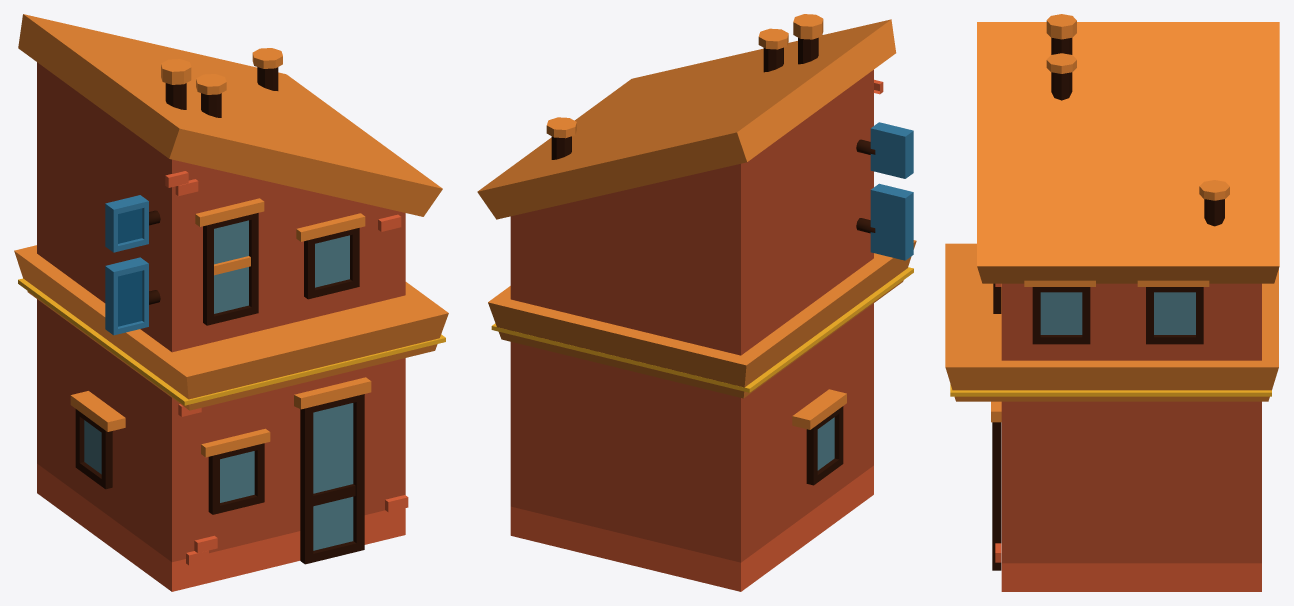
Rendered from Building B.fbx.
The picture shows the model from 3 angles, left to right: view 1: azimuth 30°, elevation 25°; view 2: azimuth 150°, elevation 25°; view 3: azimuth 270°, elevation 25°; orthographic projection. The views are drawn at different scales.
Visible parts, largest first — view 1: Building B, Overhang.005, Overhang.003, Door.001, Window.003, Window.007, Window.004, Window.008, Overhang.004, Cube.016, Cube.015, Pipe.005 (+2 smaller); view 2: Building B, Overhang.005, Overhang.003, Window.008, Cube.016, Overhang.004, Cube.015, Pipe.005, Pipe.006, Pipe.007; view 3: Overhang.005, Building B, Overhang.003, Window.005, Window.006, Overhang.004, Door.001, Pipe.006, Pipe.007, Pipe.005.
Part boxes in pixels (x1,y1,x2,y2): Building B: (37,62,405,591); Overhang.005: (18,14,442,216); Overhang.003: (14,245,448,410); Door.001: (294,377,371,564); Window.003: (195,198,264,325); Window.007: (201,428,270,514); Window.004: (296,213,365,299); Window.008: (70,391,125,489); Overhang.004: (18,278,445,405); Cube.016: (105,257,148,335); Cube.015: (105,195,148,252); Pipe.005: (161,59,191,109); Building B: (510,70,873,591); Overhang.005: (477,19,896,219); Overhang.003: (488,240,916,398); Window.008: (792,389,846,485); Cube.016: (870,183,913,260); Overhang.004: (491,267,913,392); Cube.015: (870,122,913,178); Pipe.005: (793,14,823,64); Pipe.006: (758,28,788,72); Pipe.007: (546,117,576,159); Overhang.005: (977,22,1279,283); Building B: (1001,283,1261,591); Overhang.003: (945,243,1278,401); Window.005: (1024,280,1095,344); Window.006: (1137,280,1209,344); Overhang.004: (950,384,1271,396); Door.001: (991,401,1001,570); Pipe.006: (1046,53,1076,100); Pipe.007: (1199,180,1229,226); Pipe.005: (1046,14,1076,54).
Size of the model in its own units: 263 by 405 by 257.
